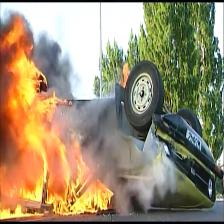fire: (0, 13, 116, 220)
smoke: (84, 118, 188, 216)
